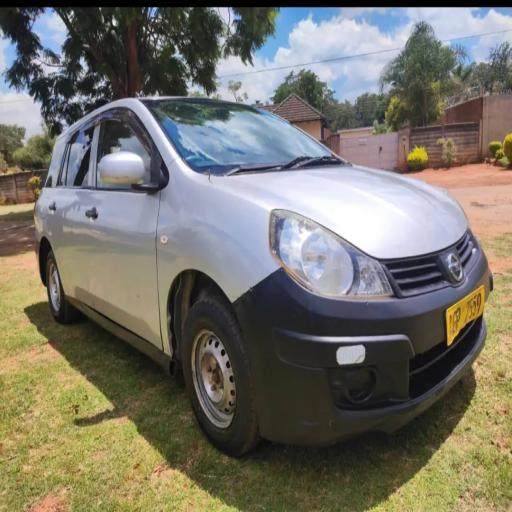number-plates: (446, 288, 486, 338)
